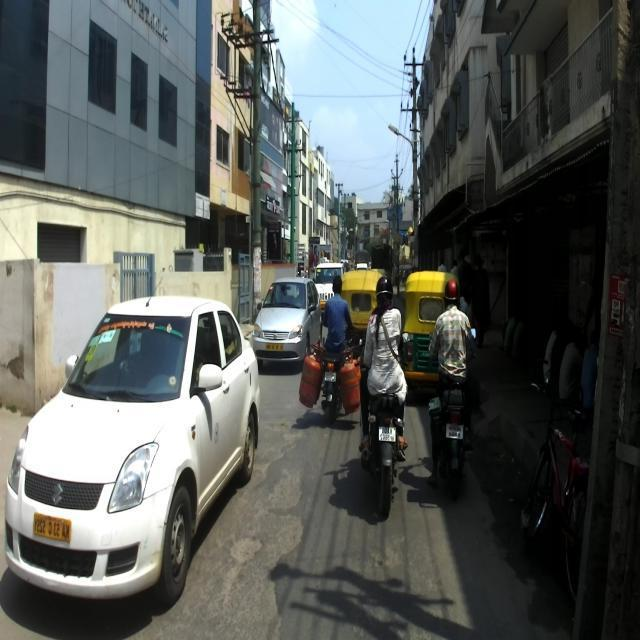Pothole: (277, 425, 330, 640), (341, 528, 410, 606), (219, 522, 271, 606)
